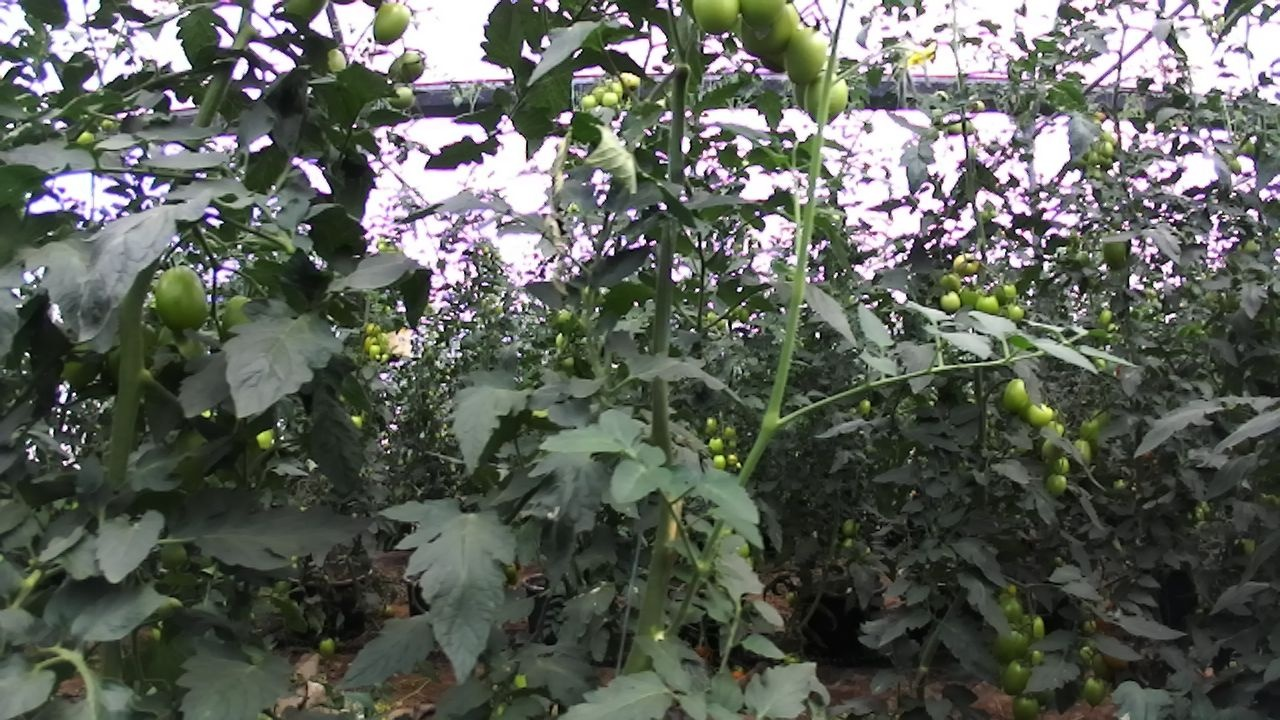tomato: (150, 255, 222, 342), (735, 2, 805, 63), (780, 14, 837, 88), (801, 62, 856, 128), (364, 0, 421, 48), (681, 0, 746, 39), (381, 44, 431, 92), (989, 616, 1034, 666), (997, 370, 1036, 420), (995, 653, 1040, 694), (1078, 671, 1115, 716), (380, 82, 430, 113), (1022, 396, 1061, 432), (1005, 688, 1045, 720), (949, 248, 984, 279), (312, 631, 344, 664), (934, 285, 965, 317), (1042, 468, 1072, 499), (972, 291, 1001, 317), (576, 90, 599, 110), (710, 450, 729, 473), (705, 434, 726, 453), (600, 89, 620, 108)
